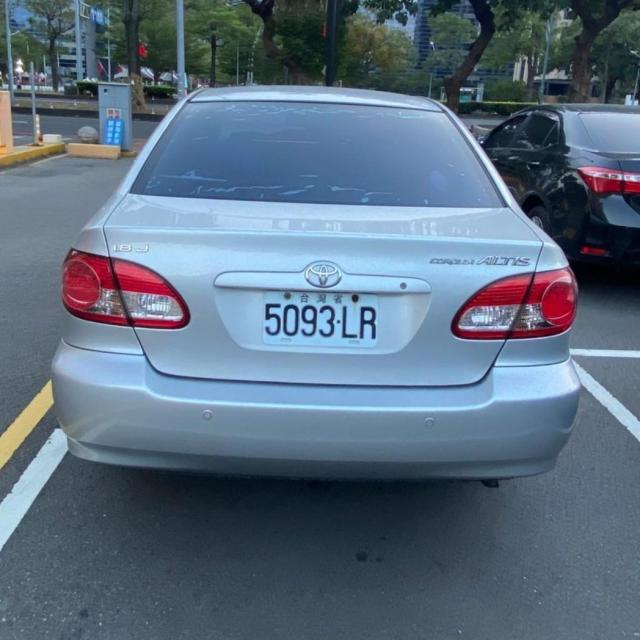W: (262, 289, 381, 350)
